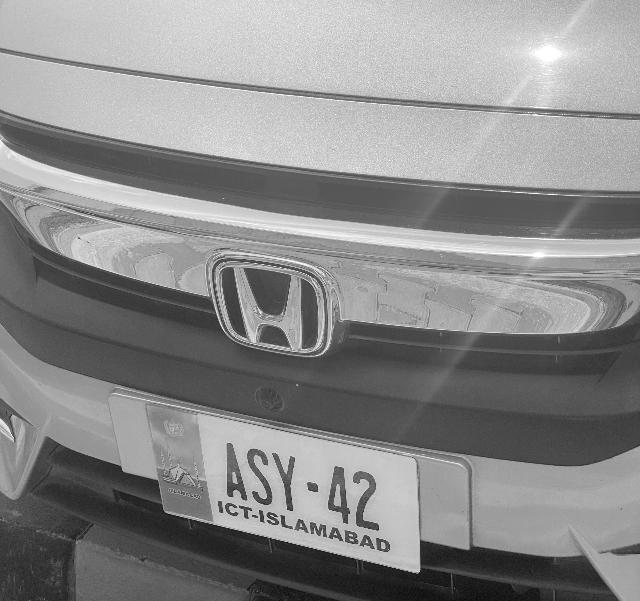Number: (215, 434, 386, 540)
